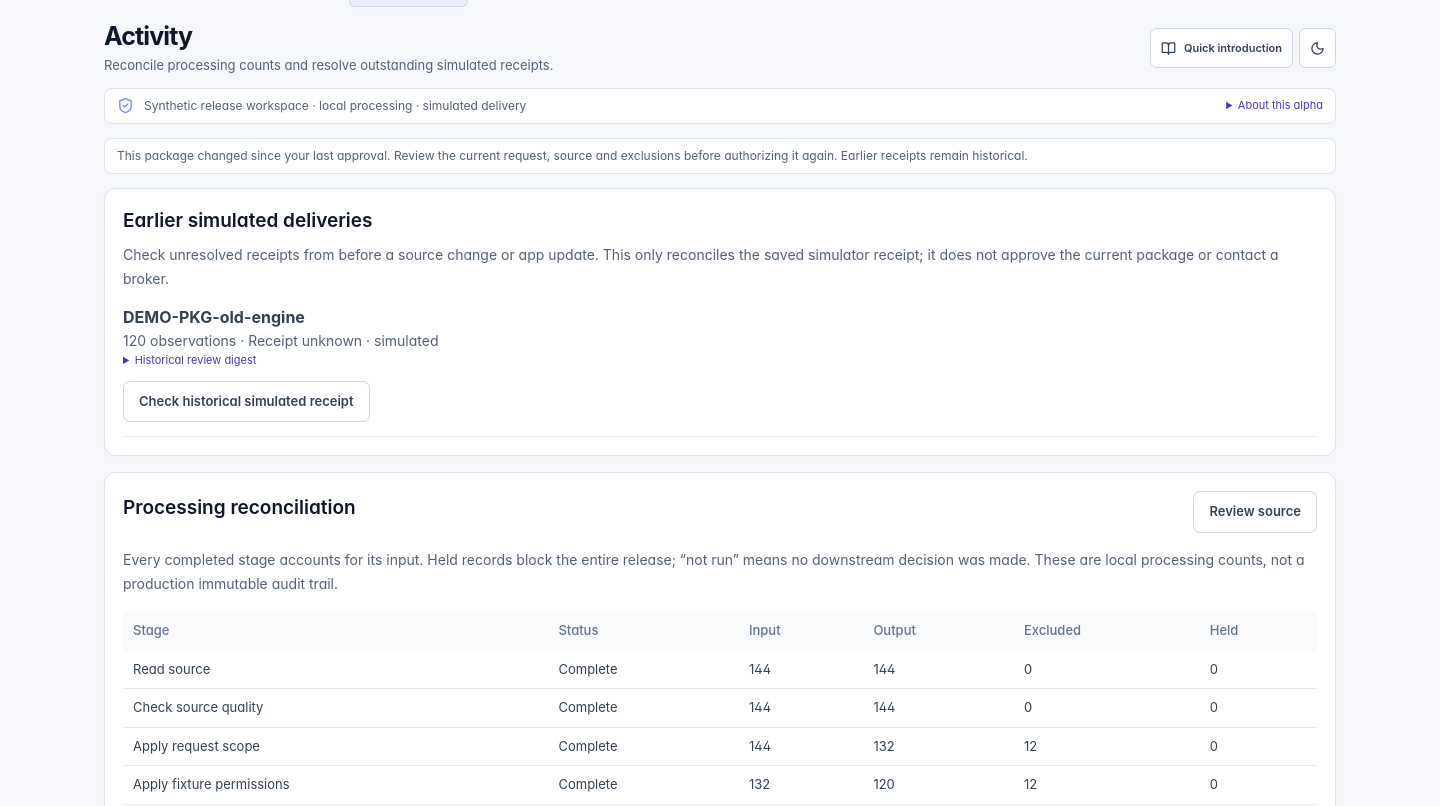
resolves an older pending simulator receipt without approving the new engine package
The image size is (1440, 806).
(page scrolled)
Step 1. Click the button "Check historical simulated receipt" → (246, 402), box x1=123 y1=381 x2=370 y2=422
(page scrolled)
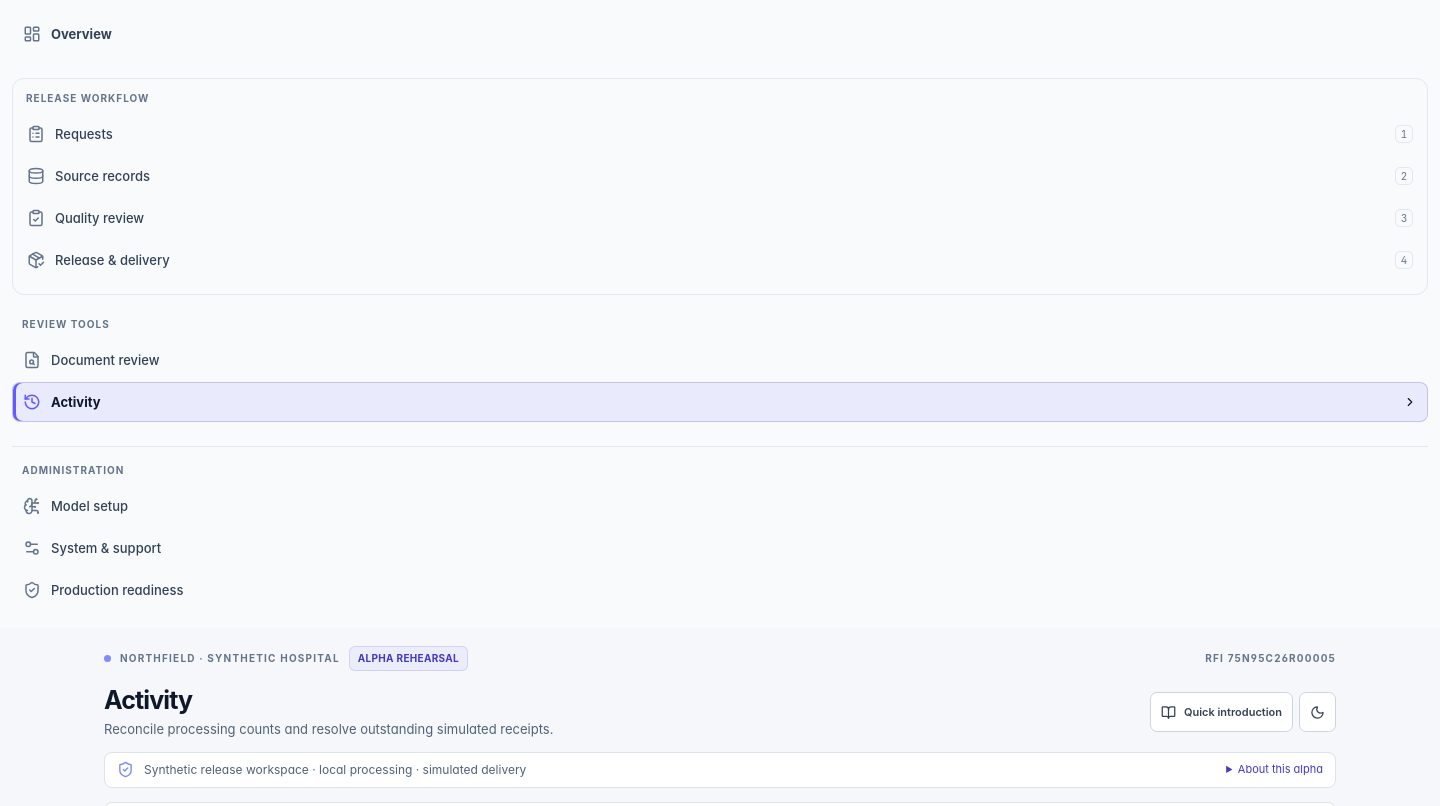
Step 2. Click the button "Release & delivery 4" → (112, 260), box x1=16 y1=240 x2=1424 y2=280
(page scrolled)
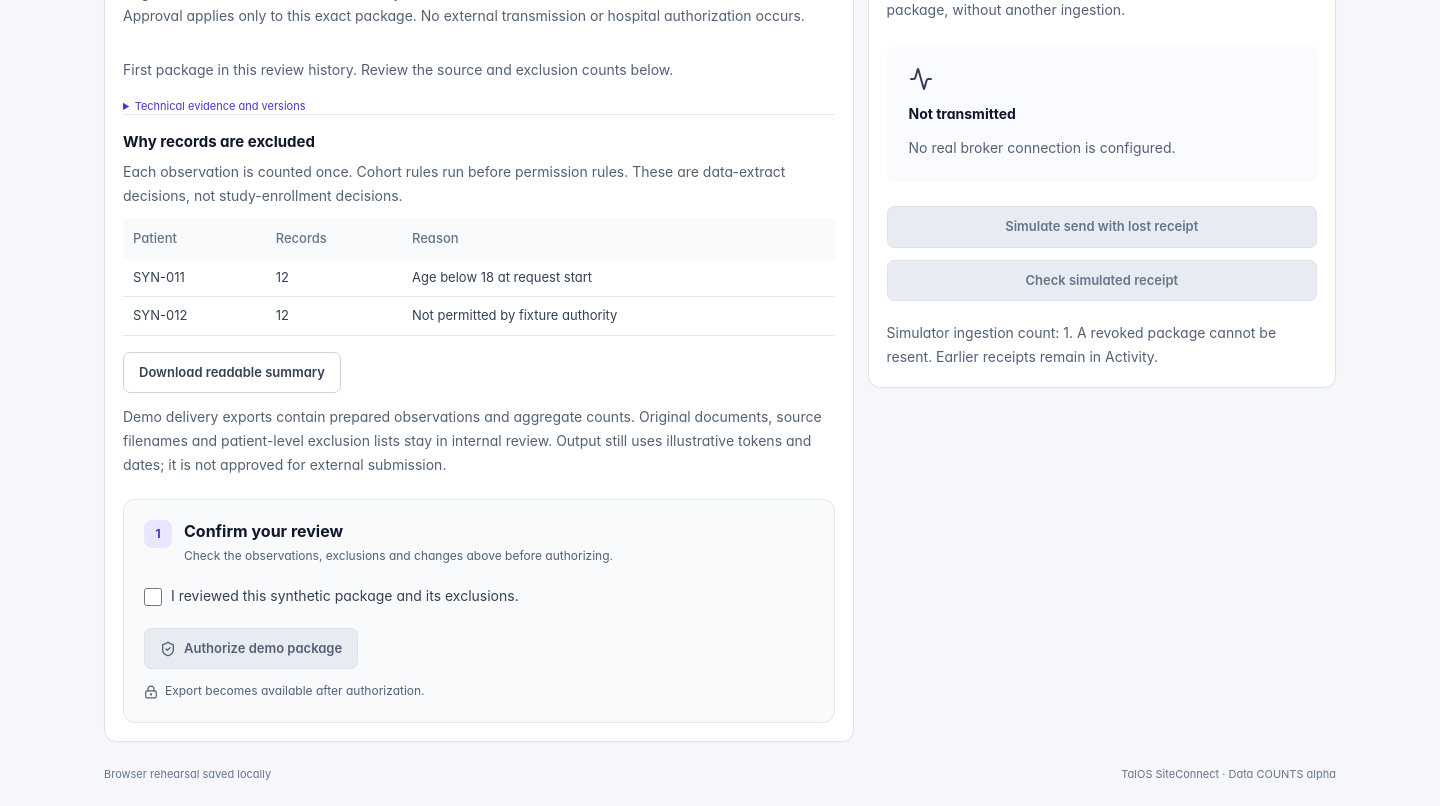
Result: the button "Authorize demo package" is disabled at x1=144 y1=628 x2=358 y2=669
